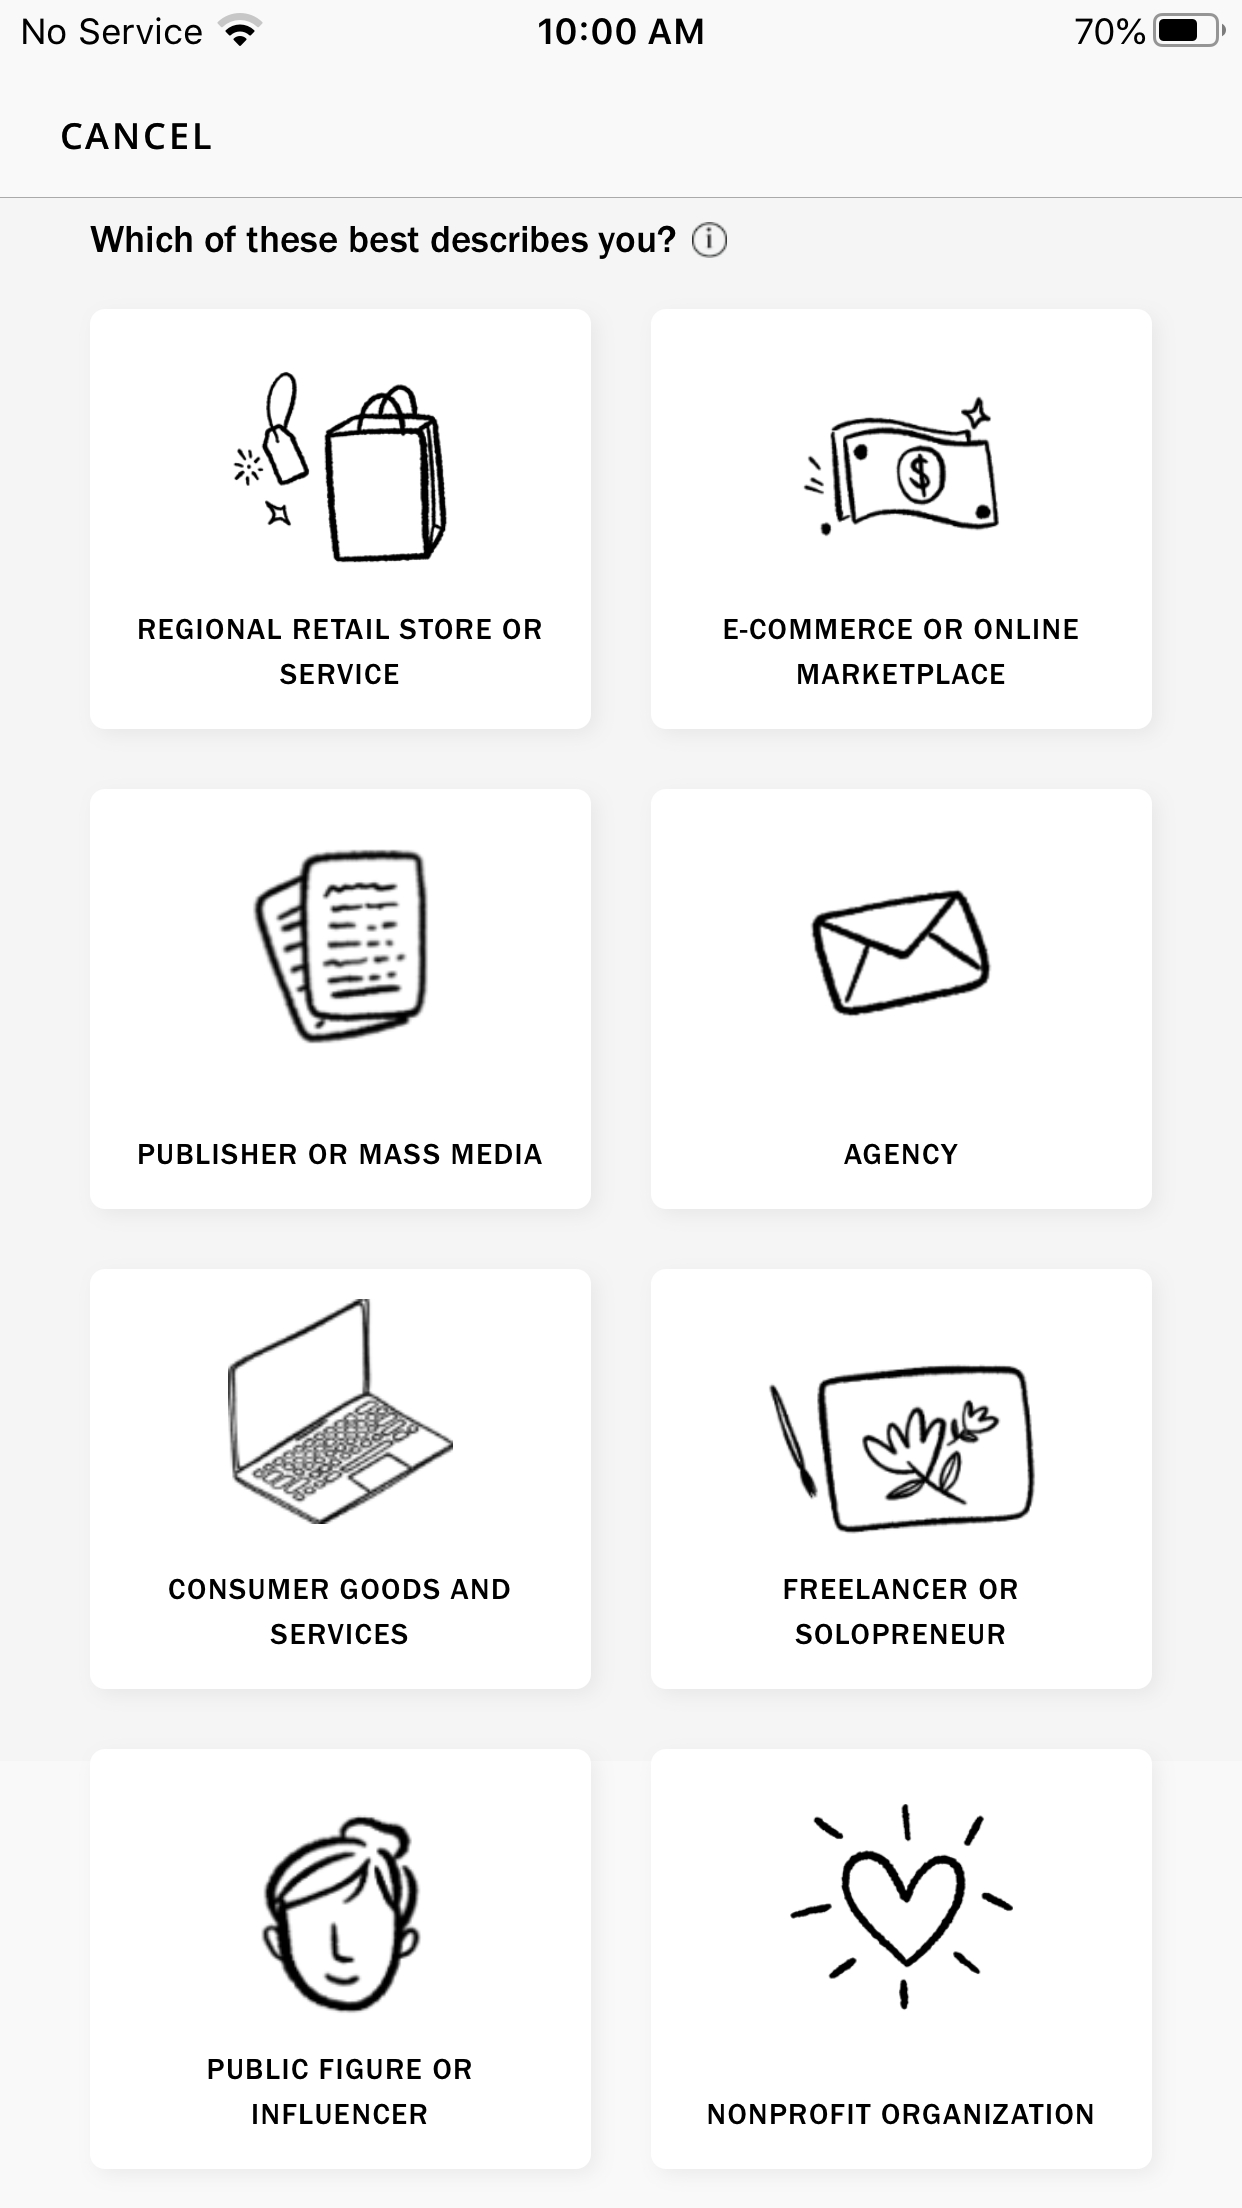Icon: (692, 221, 726, 258)
Image: (227, 1300, 453, 1524), (789, 1803, 1013, 2009), (769, 1366, 1034, 1532), (234, 372, 447, 563), (253, 851, 428, 1043), (262, 1817, 422, 2011), (804, 397, 999, 538), (811, 892, 990, 1016)
Text: (140, 619, 541, 685), (723, 619, 1078, 685), (168, 1579, 511, 1645), (89, 224, 676, 259), (208, 2058, 472, 2125), (784, 1579, 1018, 1645), (140, 1143, 541, 1165), (708, 2103, 1093, 2125), (64, 123, 211, 149), (845, 1143, 958, 1165)
UpperTaskBar: (2, 2, 1242, 49)
